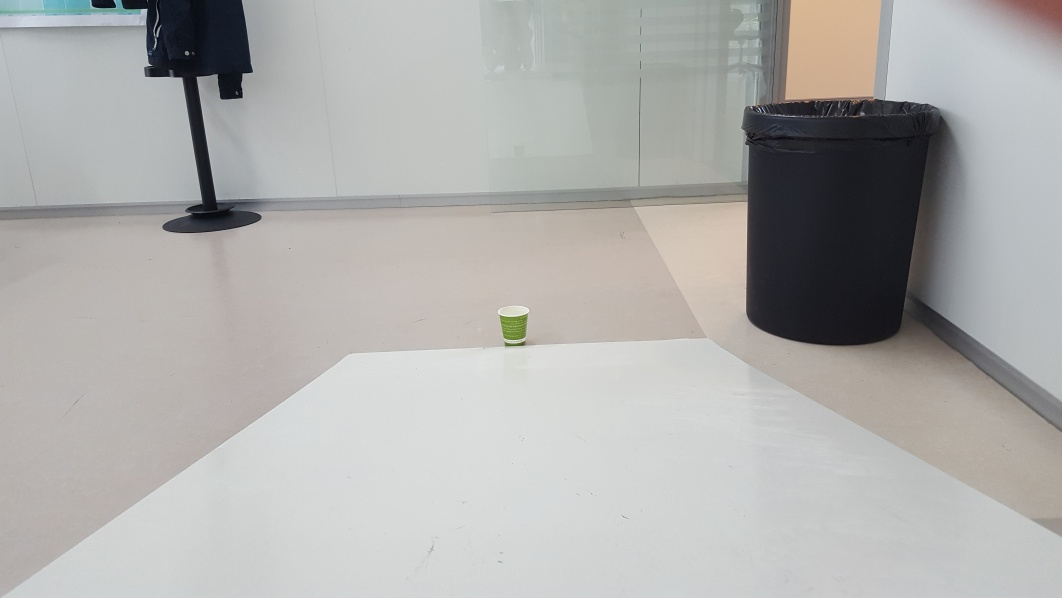cup: (496, 302, 532, 347)
